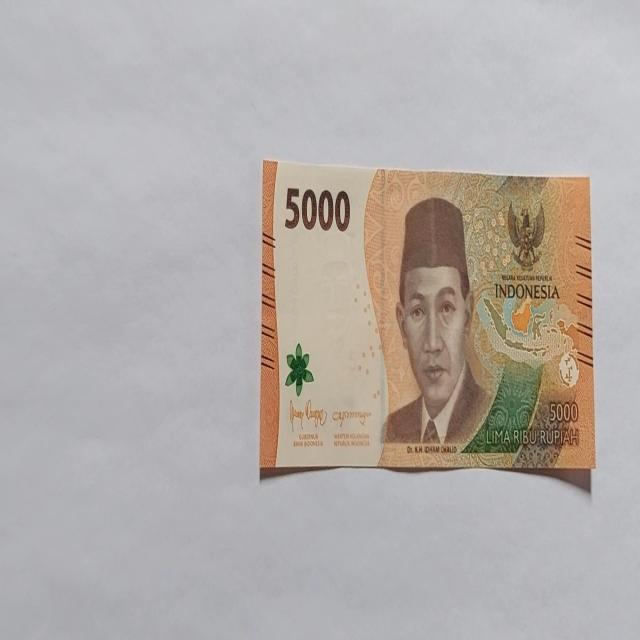lima ribu rupiah: (259, 158, 595, 482), (379, 195, 494, 450)
